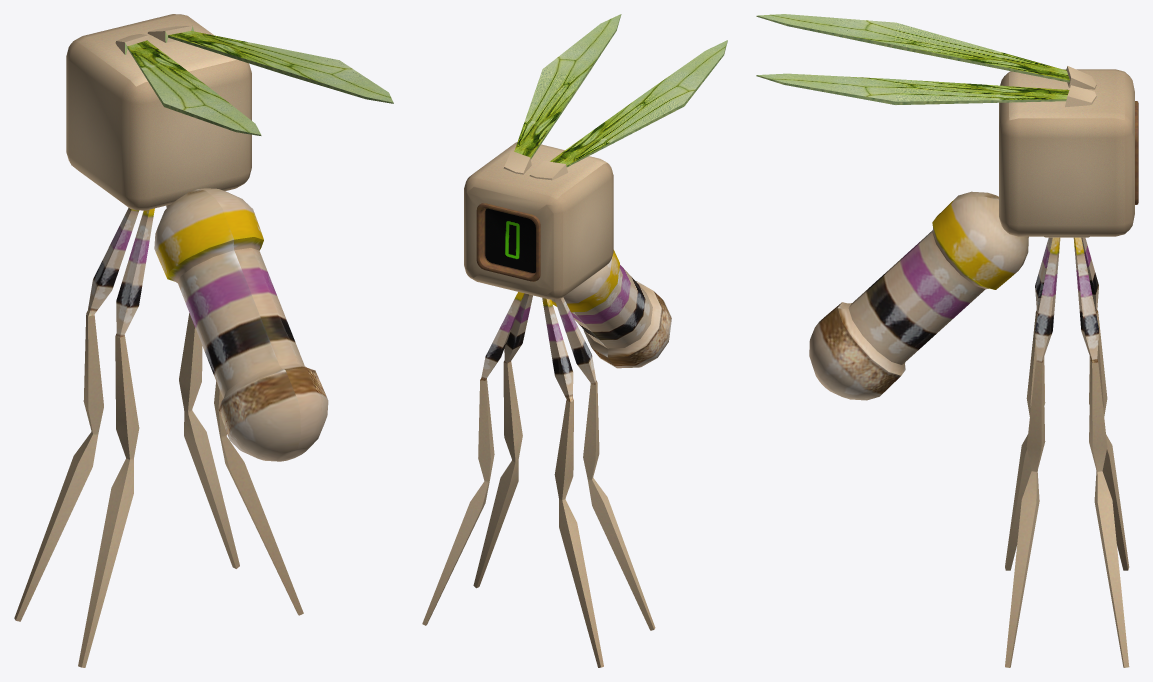
The model's file is spam_LOD_single.fbx.
3 views of the same model, side by side, from view 1: azimuth 30°, elevation 25°; view 2: azimuth 150°, elevation 25°; view 3: azimuth 270°, elevation 25° (orthographic). The views are drawn at different scales.
Visible parts, largest first — view 1: sp4m_mesh_LOD0; view 2: sp4m_mesh_LOD0; view 3: sp4m_mesh_LOD0.
Part boxes in pixels (left/top/right/bottom): sp4m_mesh_LOD0: left=14, top=14, right=393, bottom=667; sp4m_mesh_LOD0: left=422, top=14, right=727, bottom=667; sp4m_mesh_LOD0: left=756, top=14, right=1138, bottom=667.
Size of what is drawn, in the model's own units: 105 by 279 by 168.
